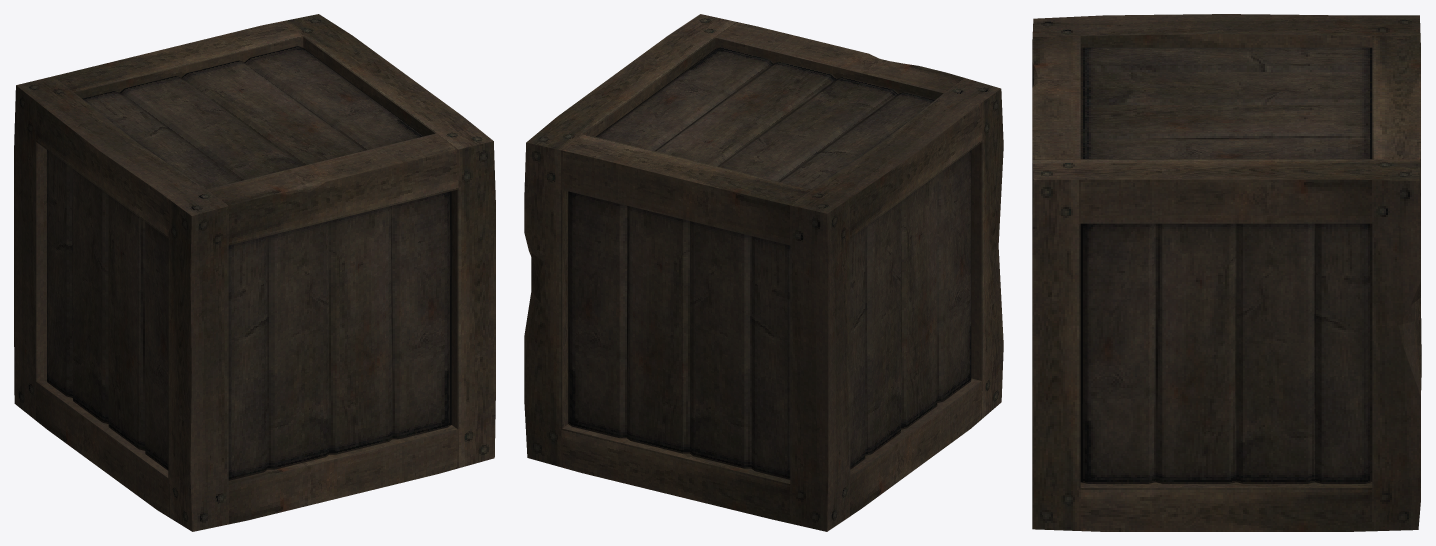
The model's file is wooden_crate_5.glb.
The picture shows the model from 3 angles, left to right: view 1: azimuth 30°, elevation 25°; view 2: azimuth 150°, elevation 25°; view 3: azimuth 270°, elevation 25°; orthographic projection. The views are drawn at different scales.
Visible parts, largest first — view 1: wooden_crate_5; view 2: wooden_crate_5; view 3: wooden_crate_5.
Part boxes in pixels (x1,y1,x2,y2): wooden_crate_5: (14, 14, 495, 531); wooden_crate_5: (524, 14, 1003, 531); wooden_crate_5: (1032, 14, 1421, 531).
Bounding box in the file's own units: 1.09 × 1.08 × 1.08.
1 material, 1 textured.
